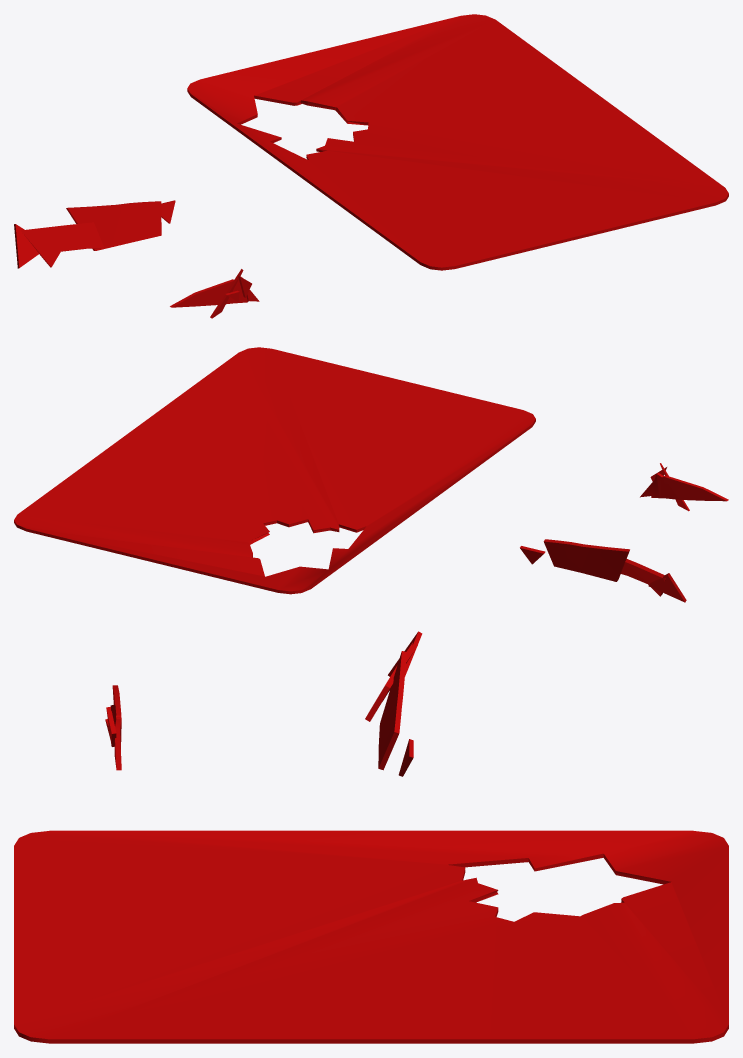
File: BKGlass_GA2.fbx
3 renders of one model, top to bottom at view 1: azimuth 30°, elevation 25°; view 2: azimuth 150°, elevation 25°; view 3: azimuth 270°, elevation 25°, orthographic. The views are drawn at different scales.
Parts seen in each view (by area): view 1: BrockenGlass_high, GlassesPiece01_high, GlassesPiece02_high; view 2: BrockenGlass_high, GlassesPiece01_high, GlassesPiece02_high; view 3: BrockenGlass_high, GlassesPiece01_high, GlassesPiece02_high.
Boxes of the visible parts, x1,y1,x2,y2 form: BrockenGlass_high: (187,14,728,270); GlassesPiece01_high: (14,200,175,268); GlassesPiece02_high: (170,269,259,318); BrockenGlass_high: (14,347,535,594); GlassesPiece01_high: (520,539,686,602); GlassesPiece02_high: (640,463,728,511); BrockenGlass_high: (14,830,728,1043); GlassesPiece01_high: (365,631,422,776); GlassesPiece02_high: (105,685,121,770).
Bounding box in the file's own units: 85.43 × 6.78 × 64.45.
